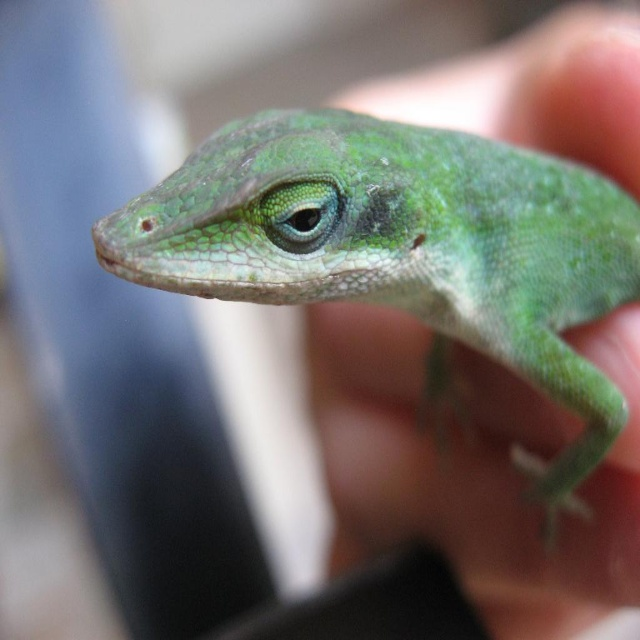Lizard: (74, 102, 640, 599)
